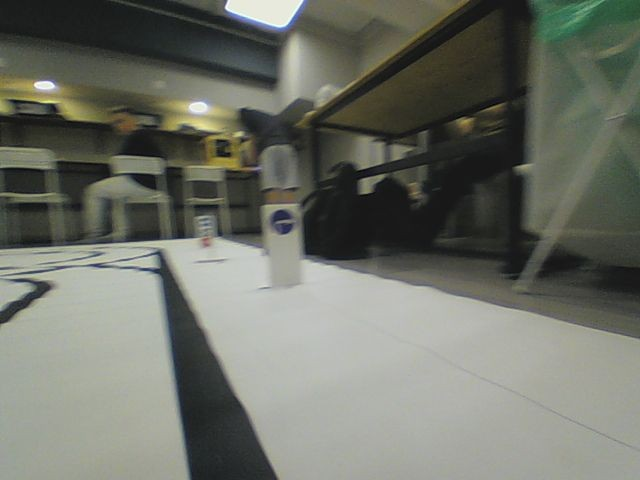Right: (269, 209, 296, 235)
